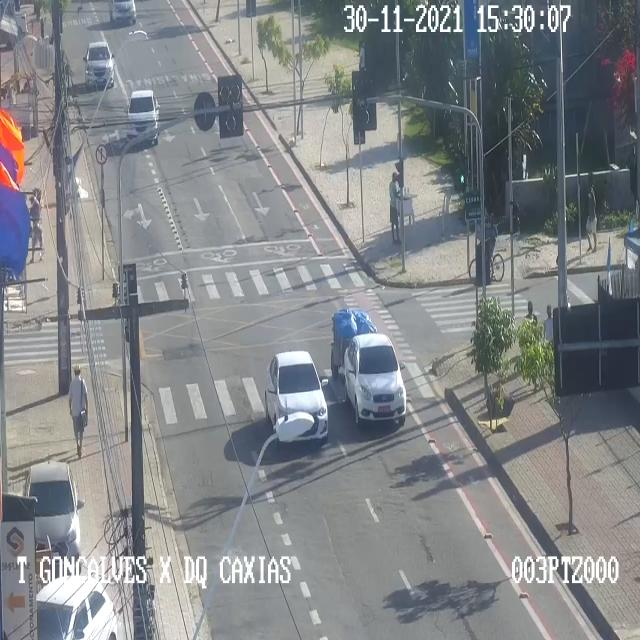Car: (264, 349, 328, 443), (344, 333, 408, 426), (23, 464, 83, 561), (38, 576, 116, 639), (124, 90, 162, 144), (83, 42, 115, 90), (108, 0, 136, 22)
